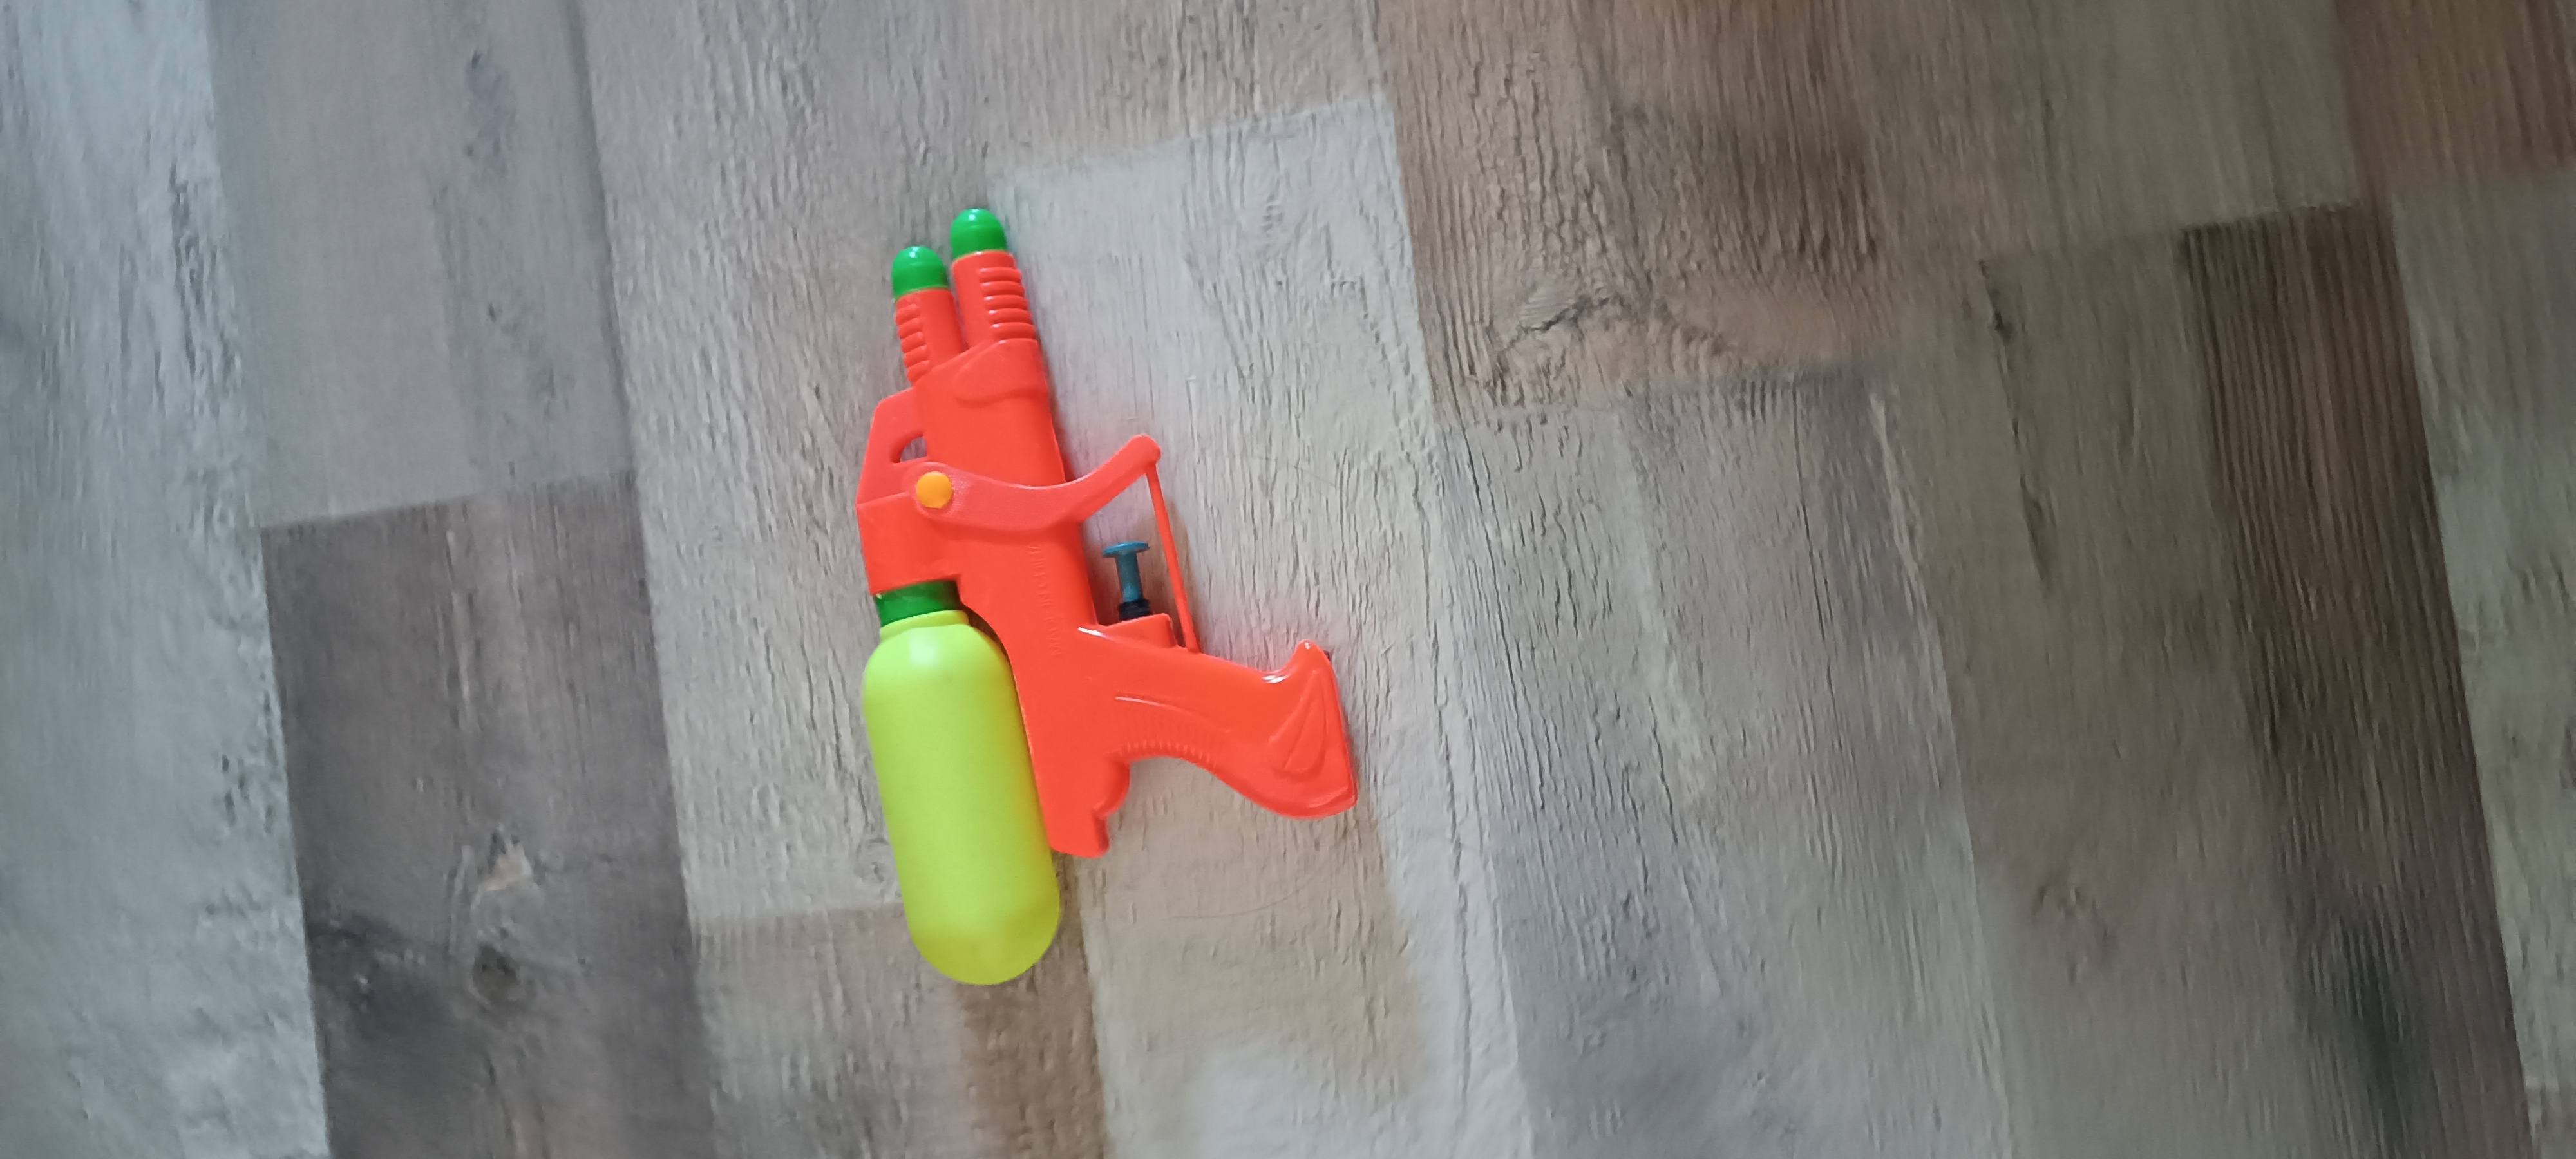Water Gun: (854, 207, 1359, 987)
